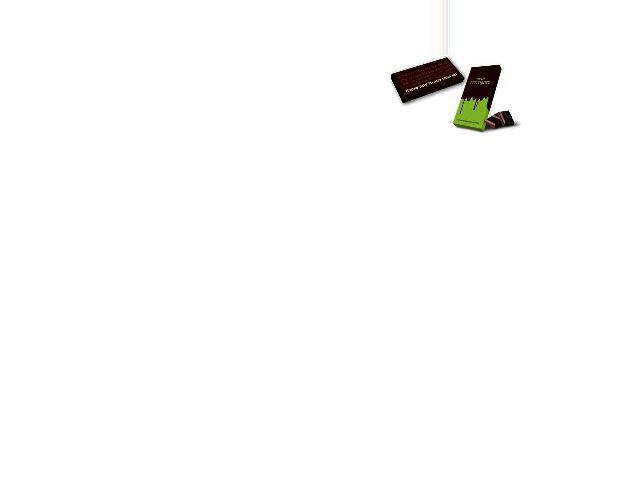chocolate: (456, 63, 496, 133)
